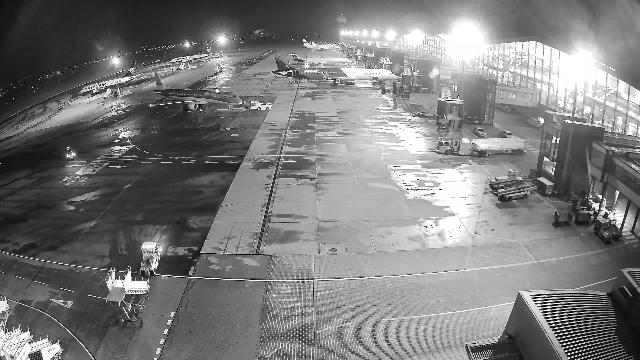Aircraft: (271, 52, 398, 86), (150, 72, 242, 110), (80, 61, 143, 94), (170, 46, 214, 63), (288, 53, 353, 64), (303, 39, 340, 49)
Airport_Tractor: (140, 242, 161, 276), (593, 218, 613, 242), (603, 216, 621, 240), (586, 194, 606, 211), (381, 86, 392, 92)
Baggage_Trolley: (536, 177, 554, 195), (554, 210, 573, 225), (572, 199, 588, 213), (575, 211, 592, 223), (593, 210, 609, 220)
Conveyor_Belt: (494, 176, 537, 201), (489, 169, 529, 190), (413, 106, 437, 118)
Fuel_Tuck: (437, 136, 526, 158)
Ground_Crew: (244, 100, 246, 105), (297, 79, 298, 84)
Pushback_Tug: (250, 101, 273, 110)
